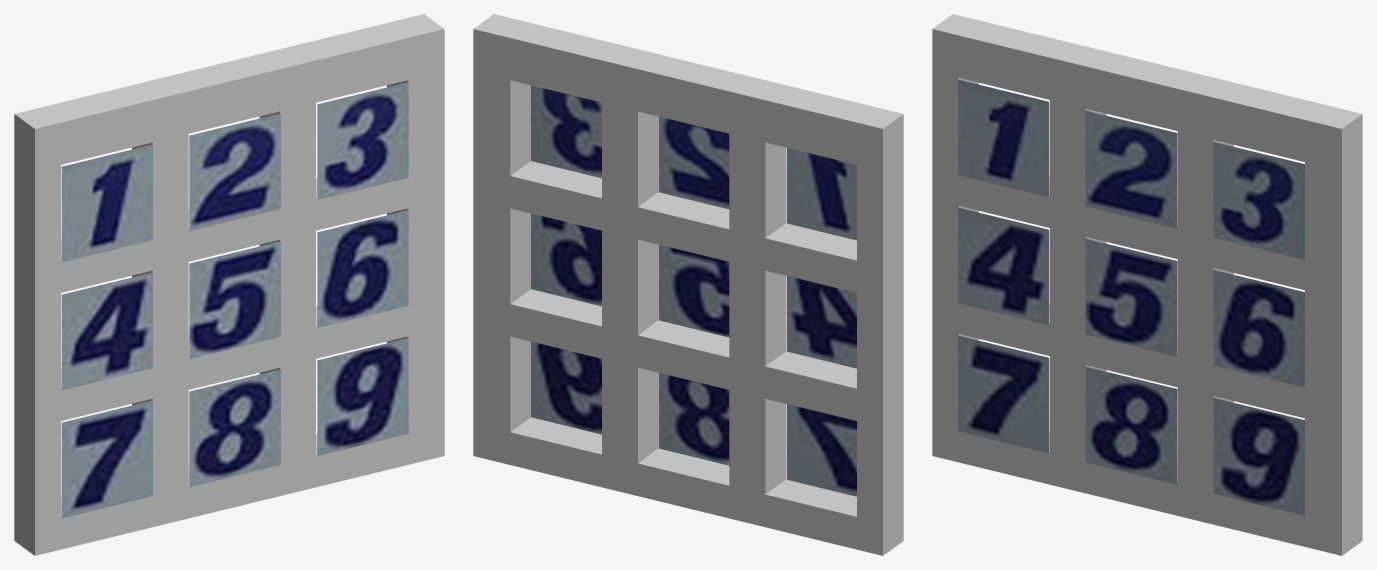
3 renders of one model, left to right at view 1: azimuth 30°, elevation 25°; view 2: azimuth 150°, elevation 25°; view 3: azimuth 330°, elevation 25°, orthographic.
Parts seen in each view (by area): view 1: Rectangle016, Plane008, Plane002, Plane005, Plane006, Plane004, Plane007, Plane009, Plane001, Plane003; view 2: Rectangle016, Plane005, Plane002, Plane008, Plane004, Plane003, Plane006, Plane007, Plane009, Plane001; view 3: Rectangle016, Plane002, Plane005, Plane008, Plane006, Plane001, Plane009, Plane004, Plane007, Plane003.
Boxes of the visible parts, bbox=[...] form: Rectangle016: bbox=[14, 14, 444, 555]; Plane008: bbox=[189, 369, 280, 487]; Plane002: bbox=[189, 113, 280, 231]; Plane005: bbox=[189, 241, 280, 359]; Plane006: bbox=[61, 272, 152, 390]; Plane004: bbox=[317, 210, 408, 327]; Plane007: bbox=[317, 338, 408, 455]; Plane009: bbox=[61, 400, 152, 518]; Plane001: bbox=[61, 144, 152, 262]; Plane003: bbox=[317, 82, 408, 199]; Rectangle016: bbox=[473, 14, 903, 555]; Plane005: bbox=[658, 244, 729, 337]; Plane002: bbox=[658, 116, 729, 209]; Plane008: bbox=[658, 373, 729, 465]; Plane004: bbox=[531, 213, 601, 306]; Plane003: bbox=[531, 85, 601, 178]; Plane006: bbox=[786, 276, 856, 368]; Plane007: bbox=[531, 341, 601, 434]; Plane009: bbox=[786, 404, 856, 496]; Plane001: bbox=[786, 148, 856, 240]; Rectangle016: bbox=[932, 14, 1362, 555]; Plane002: bbox=[1085, 111, 1177, 228]; Plane005: bbox=[1085, 239, 1177, 356]; Plane008: bbox=[1085, 367, 1177, 484]; Plane006: bbox=[958, 207, 1049, 325]; Plane001: bbox=[958, 79, 1049, 197]; Plane009: bbox=[958, 335, 1049, 453]; Plane004: bbox=[1213, 270, 1304, 387]; Plane007: bbox=[1213, 398, 1304, 515]; Plane003: bbox=[1213, 142, 1304, 259].
Size of the model in its own units: 80.58 by 80.26 by 7.19.
9 materials, 9 textured.
